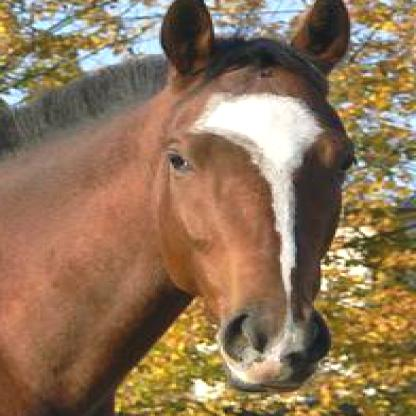horse: (1, 0, 352, 415)
